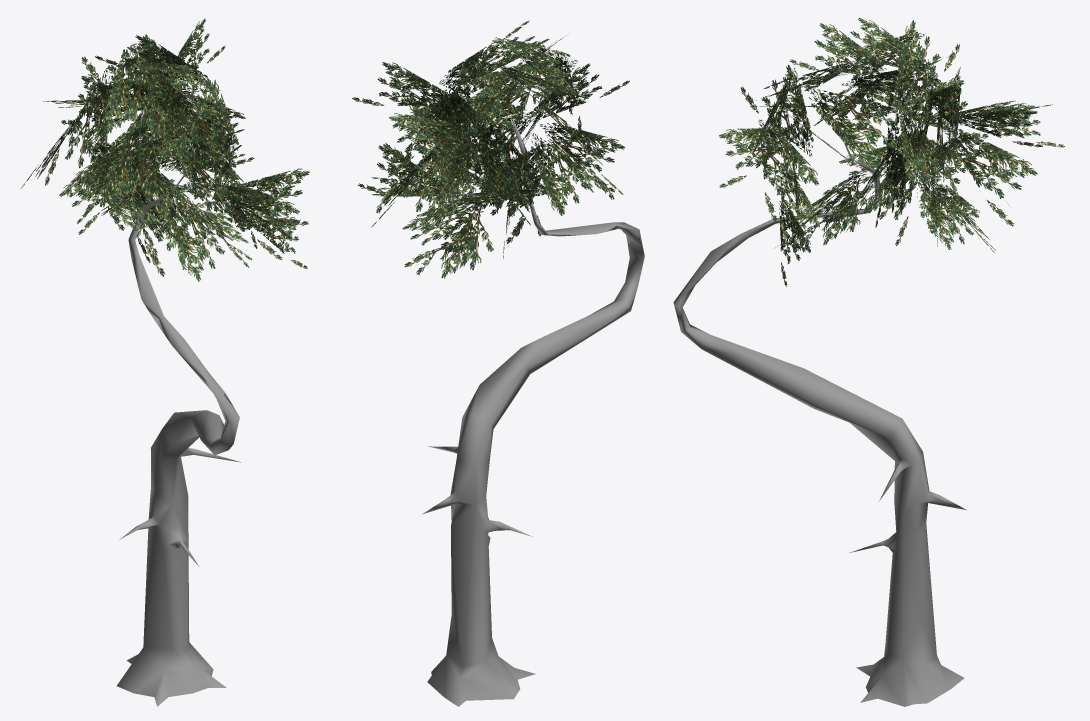
Rendered from siraptree_lod2.fbx.
3 renders of one model, left to right at view 1: azimuth 30°, elevation 25°; view 2: azimuth 150°, elevation 25°; view 3: azimuth 270°, elevation 25°, orthographic.
Visible parts, largest first — view 1: Default_Layer; view 2: Default_Layer; view 3: Default_Layer.
Part boxes in pixels (box(x1,y1,x2,y2)): Default_Layer: box(21, 18, 309, 706); Default_Layer: box(352, 20, 644, 706); Default_Layer: box(673, 17, 1064, 706).
Size of the model in its own units: 485 by 1151 by 640.
